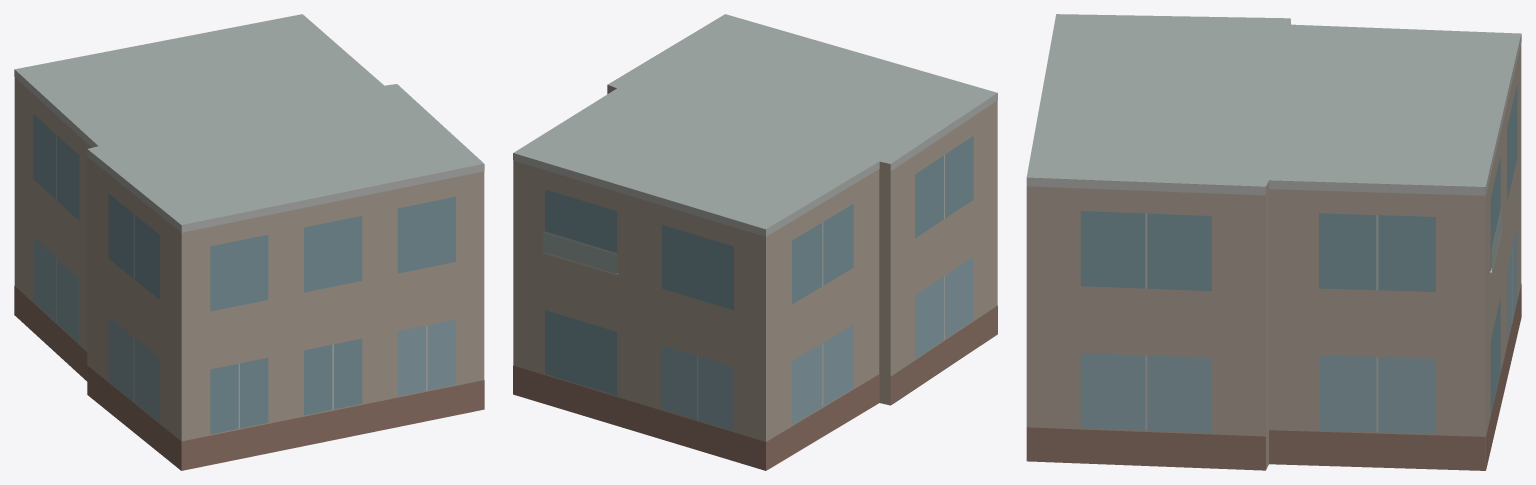
File: survey-upis-32755175.glb
The picture shows the model from 3 angles, left to right: view 1: azimuth 30°, elevation 25°; view 2: azimuth 150°, elevation 25°; view 3: azimuth 270°, elevation 25°; orthographic projection. The views are drawn at different scales.
Visible parts, largest first — view 1: survey-upis-32755175.tmp; view 2: survey-upis-32755175.tmp; view 3: survey-upis-32755175.tmp.
Boxes of the visible parts, x1=… form: survey-upis-32755175.tmp: x1=14, y1=14, x2=484, y2=470; survey-upis-32755175.tmp: x1=513, y1=14, x2=997, y2=470; survey-upis-32755175.tmp: x1=1026, y1=14, x2=1521, y2=470.
Bounding box in the file's own units: 10.34 × 7.9 × 12.5.
